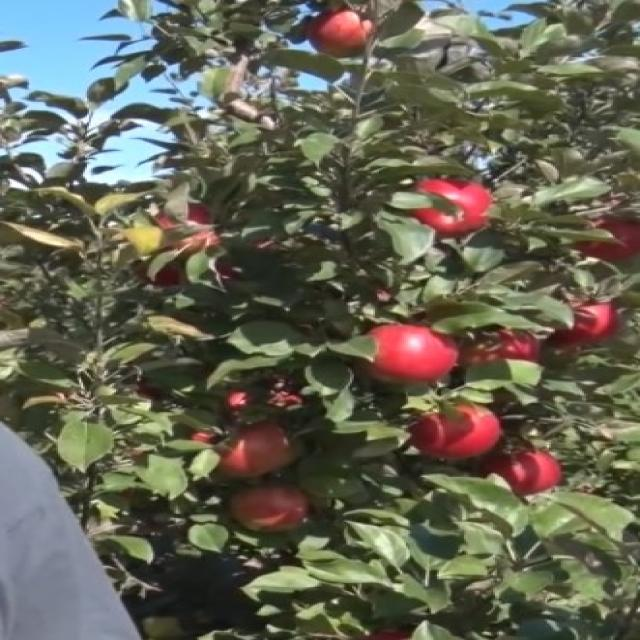100-_ripeness: (350, 322, 456, 392), (402, 168, 504, 240), (398, 400, 507, 463), (184, 426, 305, 480), (209, 487, 313, 533), (460, 320, 543, 366), (302, 2, 377, 48), (495, 446, 567, 492), (560, 296, 617, 342)
